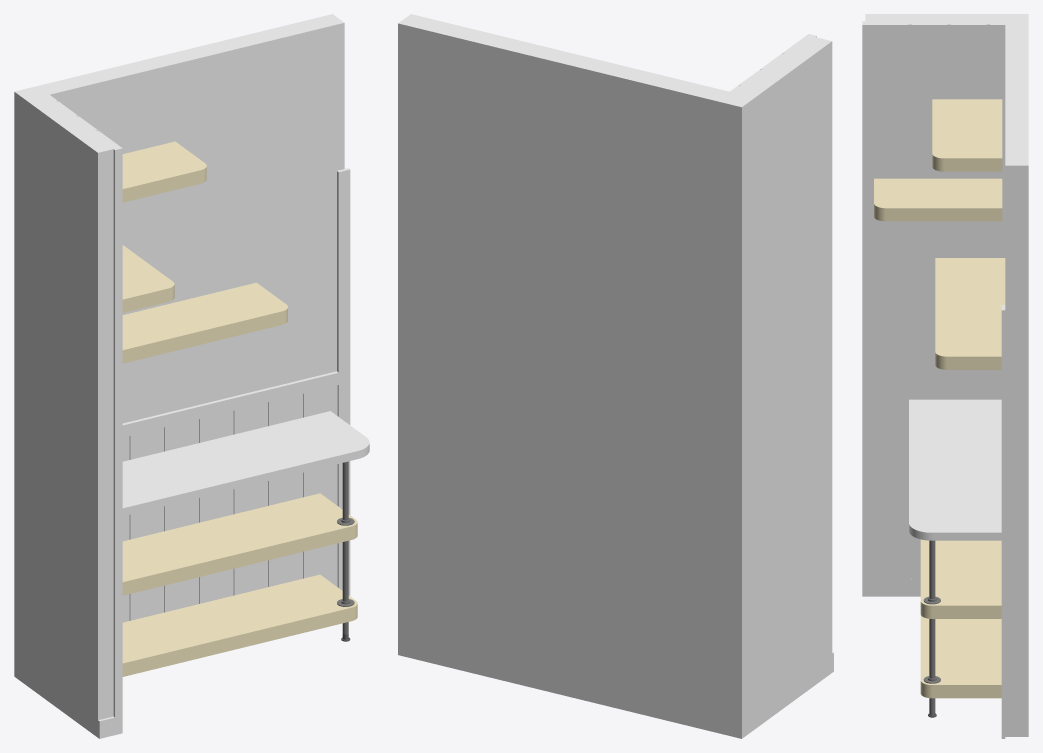
Rendered from GuestRoomShelves.glb.
3 renders of one model, left to right at view 1: azimuth 30°, elevation 25°; view 2: azimuth 150°, elevation 25°; view 3: azimuth 270°, elevation 25°, orthographic. The views are drawn at different scales.
Parts seen in each view (by area): view 1: Wall, ShelfTop (×4), ShiplapShort (×6), Top part, SmallShelf1Top, ShelfFrontLong (×2), CornerTrimSide, ExistingTrim, WescottCap, ShiplapShortEnd, SmallShelf3Top, CornerTrimFace (+3 smaller); view 2: Wall; view 3: ShiplapFullEnd, Wall, ShiplapFull (×2), Top part, ShelfTop (×2), SmallShelf1Top, CornerTrimFace, SmallShelf2Top (×2), SmallShelf3Top, ShiplapFullCorner, ExistingTrim, ShelfRightFace (×2) (+4 smaller).
Part boxes in pixels (box(x1,y1,x2,y2)): Wall: box(14, 14, 344, 737); ShelfTop (×4): box(122, 493, 357, 676); ShiplapShort (×6): box(122, 393, 302, 622); Top part: box(122, 411, 369, 516); SmallShelf1Top: box(122, 282, 287, 351); ShelfFrontLong (×2): box(122, 528, 351, 674); CornerTrimSide: box(113, 148, 120, 717); ExistingTrim: box(337, 168, 350, 595); WescottCap: box(122, 371, 338, 437); ShiplapShortEnd: box(303, 385, 337, 586); SmallShelf3Top: box(122, 141, 206, 190); CornerTrimFace: box(115, 144, 122, 716); Wall: box(398, 14, 832, 738); ShiplapFullEnd: box(872, 24, 910, 579); Wall: box(865, 14, 1028, 736); ShiplapFull (×2): box(908, 24, 988, 579); Top part: box(909, 399, 1001, 540); ShelfTop (×2): box(920, 539, 1001, 686); SmallShelf1Top: box(935, 258, 1005, 358); CornerTrimFace: box(862, 24, 872, 579); SmallShelf2Top (×2): box(874, 178, 1002, 221); SmallShelf3Top: box(932, 99, 1002, 160); ShiplapFullCorner: box(986, 24, 1005, 399); ExistingTrim: box(1001, 305, 1005, 738); ShelfRightFace (×2): box(932, 607, 1001, 696).
Size of the model in its own units: 1.58 by 2.74 by 0.7239.
